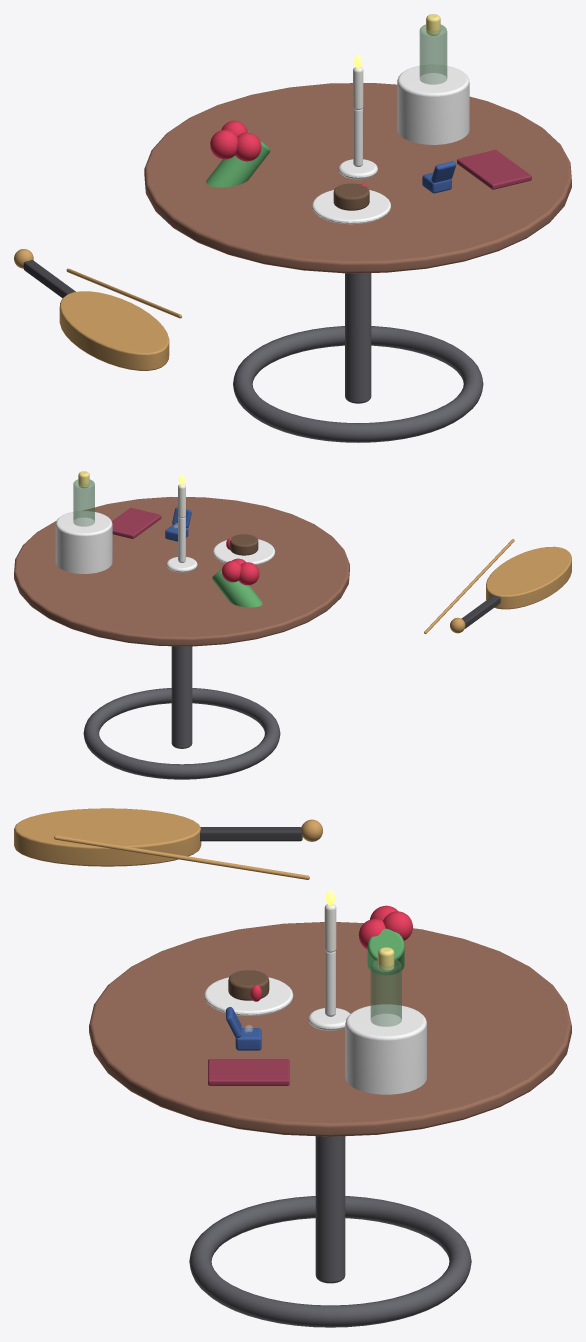
Rendered from dating.gltf.
3 renders of one model, top to bottom at view 1: azimuth 30°, elevation 25°; view 2: azimuth 150°, elevation 25°; view 3: azimuth 270°, elevation 25°, orthographic. The views are drawn at different scales.
Visible parts, largest first — view 1: Bistro_Table, Violin, Champagne_Bottle, Bouquet_of_Roses, Chocolate_Fondant, Wine_List, Candle, Ring_Box; view 2: Bistro_Table, Violin, Champagne_Bottle, Bouquet_of_Roses, Chocolate_Fondant, Candle, Wine_List; view 3: Bistro_Table, Violin, Champagne_Bottle, Chocolate_Fondant, Bouquet_of_Roses, Wine_List, Candle, Ring_Box.
Boxes of the visible parts, box(x1,y1,x2,y2) form: Bistro_Table: box(144, 83, 571, 442); Violin: box(14, 249, 181, 370); Champagne_Bottle: box(397, 14, 469, 144); Bouquet_of_Roses: box(206, 120, 270, 187); Chocolate_Fondant: box(312, 183, 390, 224); Wine_List: box(457, 149, 531, 189); Candle: box(338, 54, 377, 179); Ring_Box: box(422, 161, 456, 193); Bistro_Table: box(14, 497, 349, 779); Violin: box(424, 539, 571, 633); Champagne_Bottle: box(55, 471, 112, 573); Bouquet_of_Roses: box(212, 558, 262, 607); Chocolate_Fondant: box(213, 534, 274, 564); Candle: box(166, 474, 197, 572); Wine_List: box(112, 507, 161, 538); Bistro_Table: box(89, 922, 571, 1327); Violin: box(14, 808, 322, 879); Champagne_Bottle: box(345, 947, 426, 1094); Chocolate_Fondant: box(204, 970, 293, 1015); Bouquet_of_Roses: box(358, 905, 412, 975); Wine_List: box(208, 1059, 289, 1085); Candle: box(308, 890, 350, 1030); Ring_Box: box(226, 1007, 261, 1050).
Size of what is drawn, in the model's own units: 1.98 by 1.15 by 1.5.
